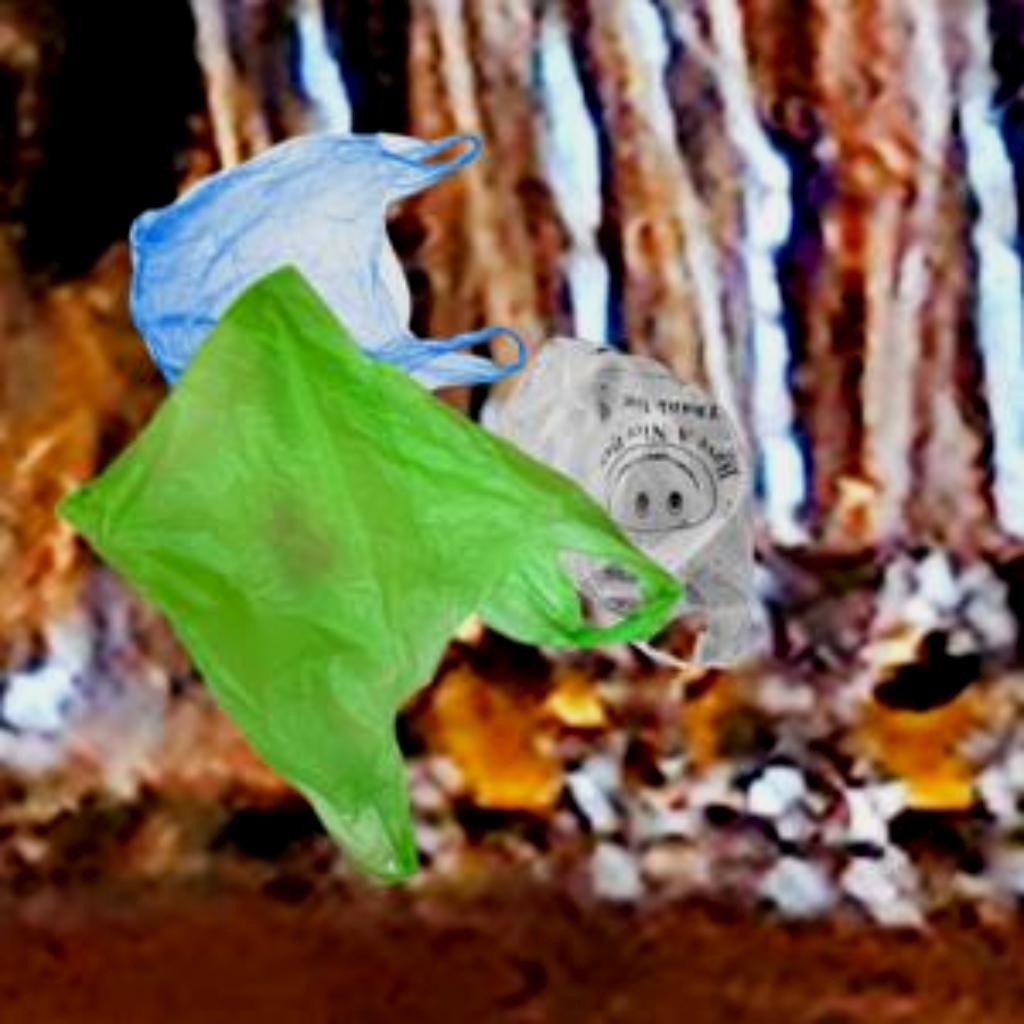garbage: (90, 295, 671, 855), (104, 128, 507, 394), (505, 324, 788, 645)
